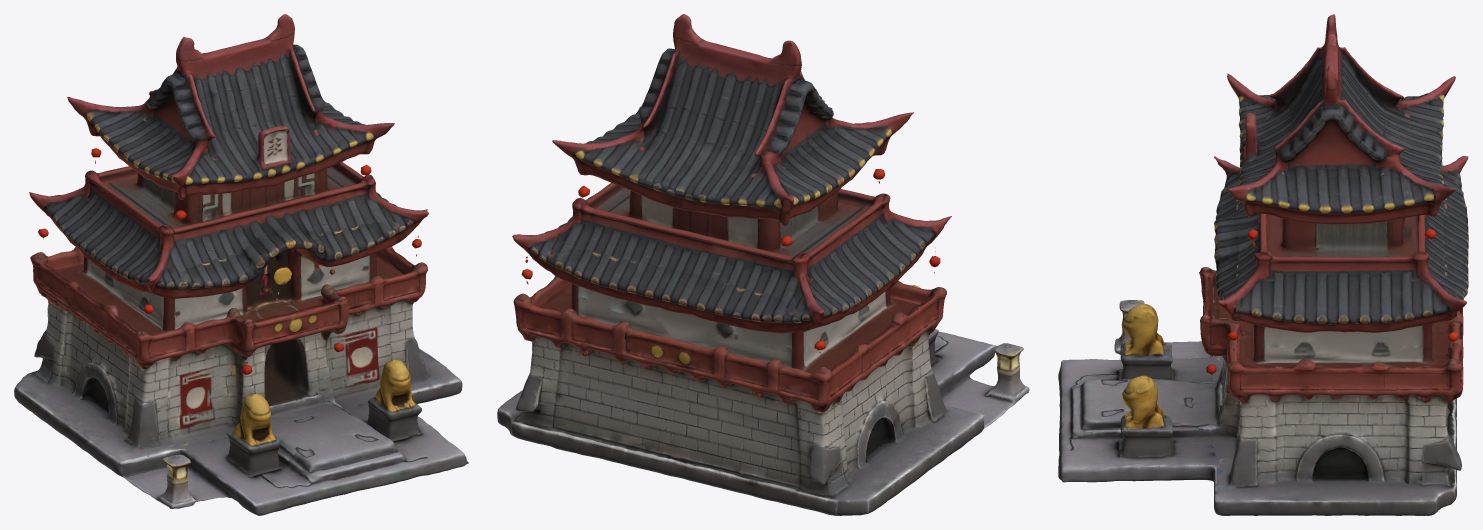
Rendered from stage-3-manor.glb.
The picture shows the model from 3 angles, left to right: view 1: azimuth 30°, elevation 25°; view 2: azimuth 150°, elevation 25°; view 3: azimuth 270°, elevation 25°; orthographic projection. The views are drawn at different scales.
Parts seen in each view (by area): view 1: tripo_node_6d0553cb-f6dc-4365-8347-9e4f664dcd8a; view 2: tripo_node_6d0553cb-f6dc-4365-8347-9e4f664dcd8a; view 3: tripo_node_6d0553cb-f6dc-4365-8347-9e4f664dcd8a.
Boxes of the visible parts, x1,y1,x2,y2 form: tripo_node_6d0553cb-f6dc-4365-8347-9e4f664dcd8a: (14,14,468,515); tripo_node_6d0553cb-f6dc-4365-8347-9e4f664dcd8a: (497,14,1029,515); tripo_node_6d0553cb-f6dc-4365-8347-9e4f664dcd8a: (1058,14,1468,515).
Size of the model in its own units: 0.9662 by 0.9904 by 0.947.
Materials: 1 (1 with a texture image).
